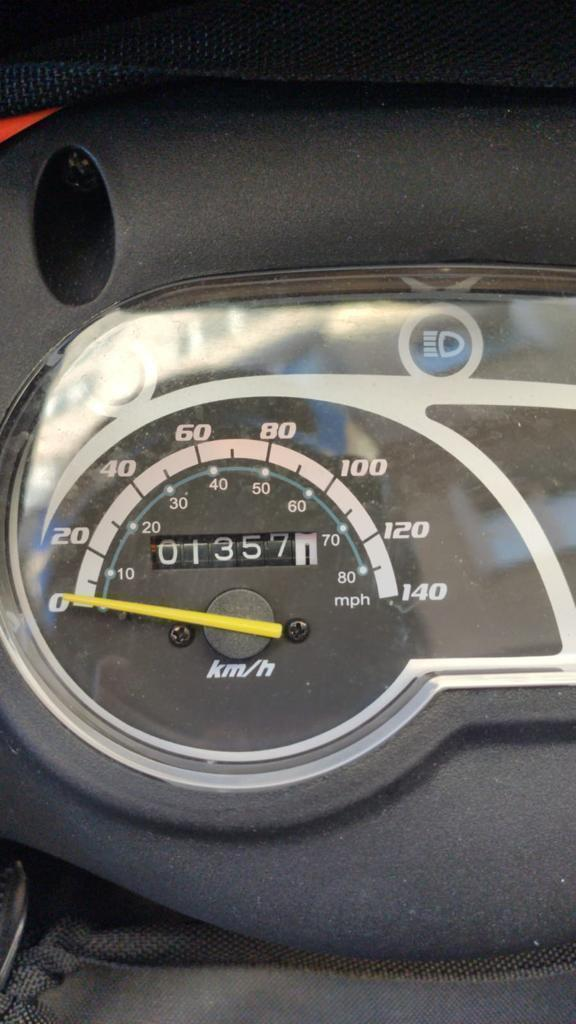0: (158, 538, 177, 565)
1: (192, 538, 199, 565), (304, 544, 310, 565)
3: (213, 536, 233, 561)
5: (242, 534, 261, 559)
7: (270, 533, 288, 557)
odometer: (147, 532, 322, 571)
